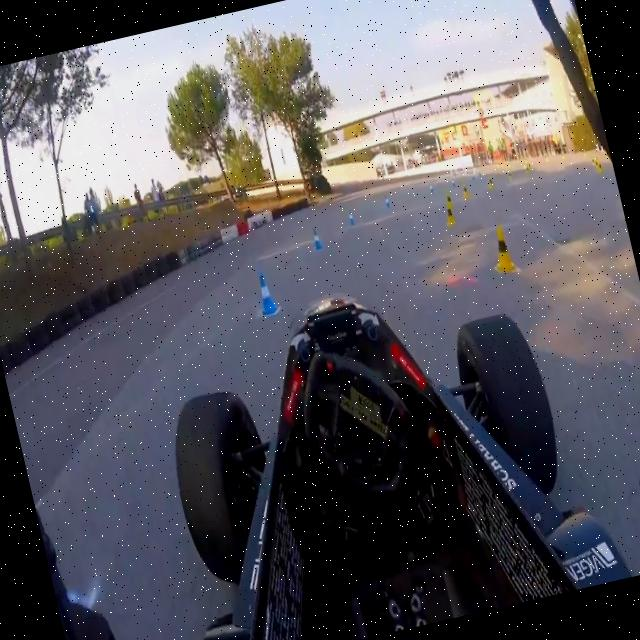blue_cone: (246, 262, 280, 320), (309, 223, 326, 254), (346, 206, 358, 231), (384, 195, 392, 211), (451, 177, 456, 189), (428, 184, 434, 194)
yellow_cone: (487, 222, 520, 276), (442, 201, 456, 227), (460, 181, 470, 200), (444, 188, 454, 204), (486, 176, 495, 190), (508, 172, 514, 184), (524, 165, 530, 175), (526, 160, 532, 170), (597, 164, 603, 174), (595, 159, 600, 168)
